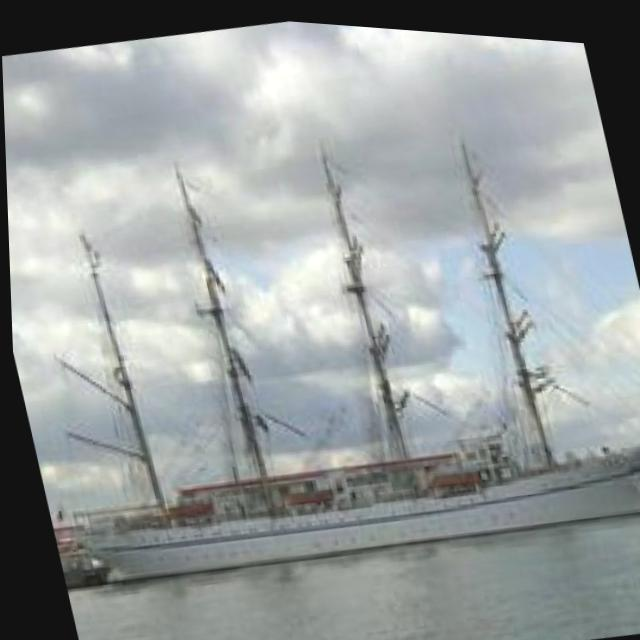ship2: (60, 132, 640, 581)
